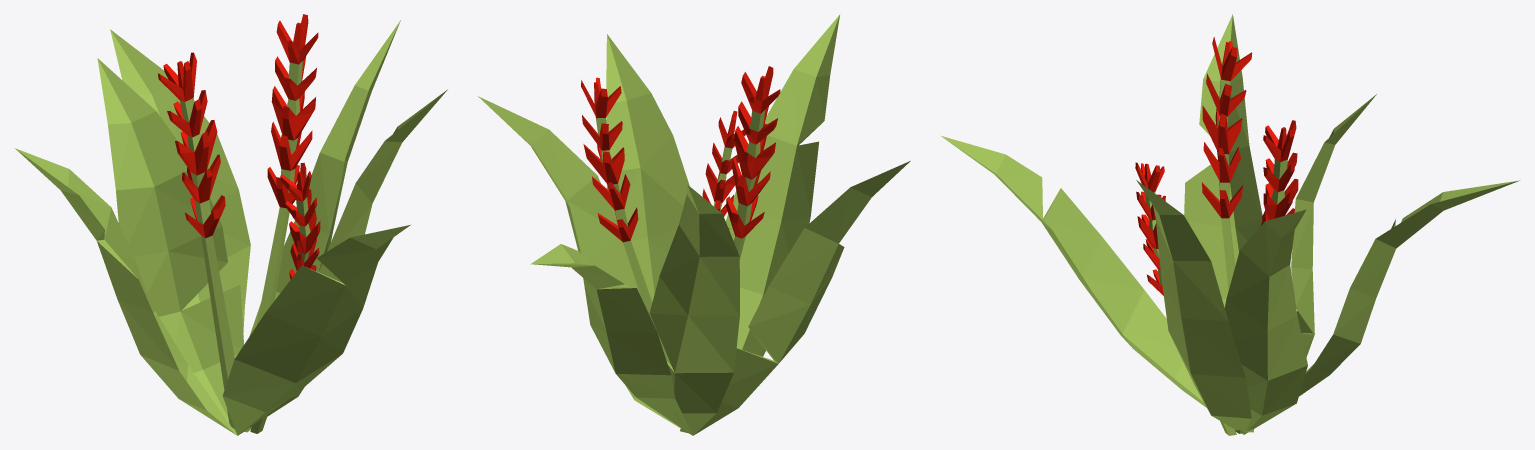
The model's file is Plant_21.fbx.
3 renders of one model, left to right at view 1: azimuth 30°, elevation 25°; view 2: azimuth 150°, elevation 25°; view 3: azimuth 270°, elevation 25°, orthographic. The views are drawn at different scales.
Visible parts, largest first — view 1: Plant_21; view 2: Plant_21; view 3: Plant_21.
Part boxes in pixels (left/top/right/bottom): Plant_21: left=15, top=14, right=447, bottom=435; Plant_21: left=478, top=14, right=910, bottom=435; Plant_21: left=940, top=14, right=1520, bottom=435.
Bounding box in the file's own units: 0.7906 × 0.7123 × 1.02.
